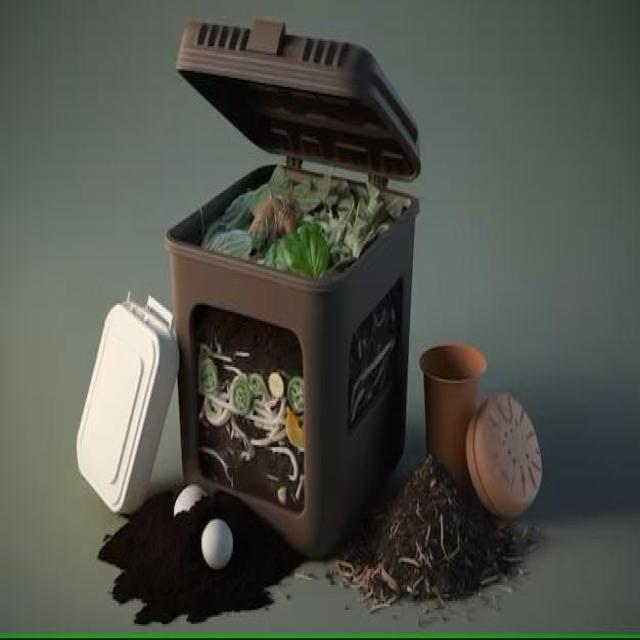Garbage: (201, 165, 410, 277)
